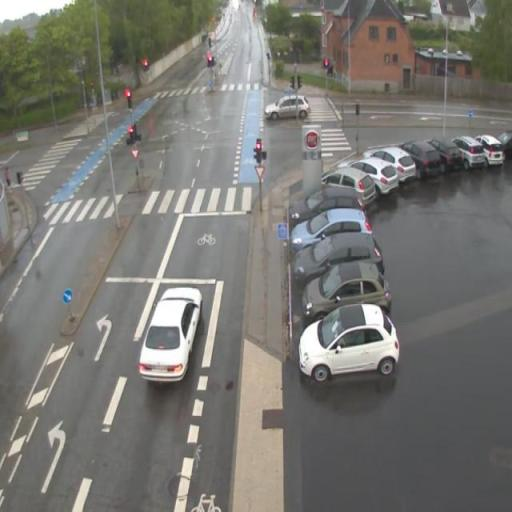小汽车: (297, 302, 401, 384), (136, 284, 210, 385), (298, 264, 392, 314), (295, 233, 385, 274), (280, 185, 364, 216), (288, 209, 377, 238), (347, 148, 399, 196), (326, 162, 374, 202), (374, 141, 413, 185), (408, 132, 442, 178), (262, 92, 308, 121), (429, 131, 460, 170)
